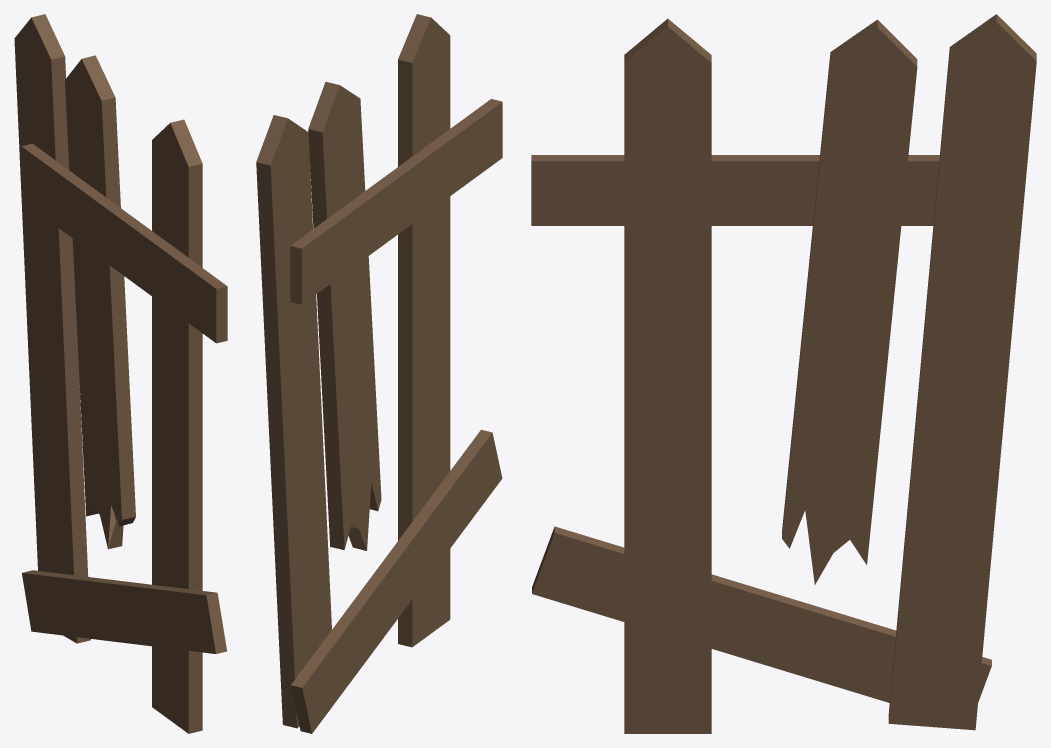
The model's file is picket_fence_tall_broken_C.gltf.
3 views of the same model, side by side, from view 1: azimuth 30°, elevation 25°; view 2: azimuth 150°, elevation 25°; view 3: azimuth 270°, elevation 25° (orthographic). The views are drawn at different scales.
Visible parts, largest first — view 1: Plank5, Plank3, Plank2, CrossBoard, CrossBoard.001; view 2: Plank5, Plank3, Plank2, CrossBoard.001, CrossBoard; view 3: Plank5, Plank3, Plank2, CrossBoard.001, CrossBoard.
Part boxes in pixels (x1=…): Plank5: x1=14, y1=14, x2=90, y2=643; Plank3: x1=152, y1=119, x2=202, y2=733; Plank2: x1=65, y1=55, x2=135, y2=549; CrossBoard: x1=21, y1=143, x2=227, y2=343; CrossBoard.001: x1=22, y1=570, x2=226, y2=653; Plank5: x1=256, y1=115, x2=331, y2=728; Plank3: x1=398, y1=14, x2=450, y2=647; Plank2: x1=308, y1=81, x2=381, y2=550; CrossBoard.001: x1=290, y1=429, x2=502, y2=733; CrossBoard: x1=290, y1=99, x2=502, y2=304; Plank5: x1=888, y1=14, x2=1036, y2=730; Plank3: x1=624, y1=18, x2=711, y2=733; Plank2: x1=782, y1=19, x2=917, y2=584; CrossBoard.001: x1=532, y1=526, x2=991, y2=702; CrossBoard: x1=531, y1=155, x2=939, y2=225.
Bounding box in the file's own units: 0.1709 × 3.84 × 2.47.
